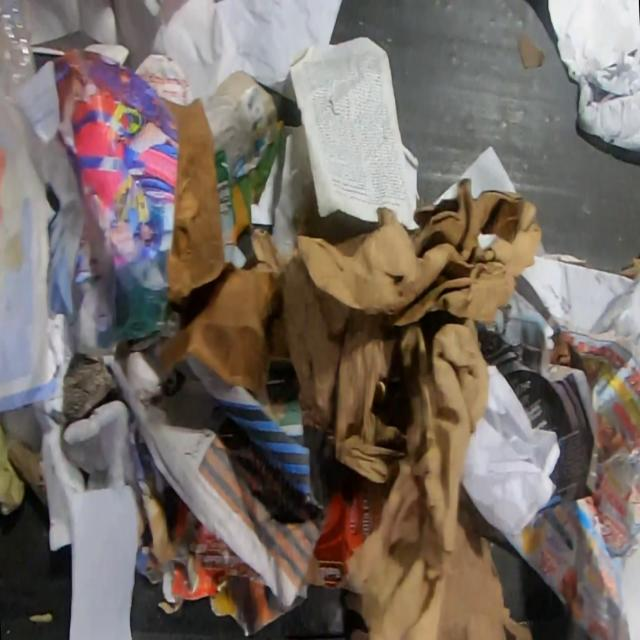cardboard: (247, 178, 542, 640), (156, 95, 281, 395)
